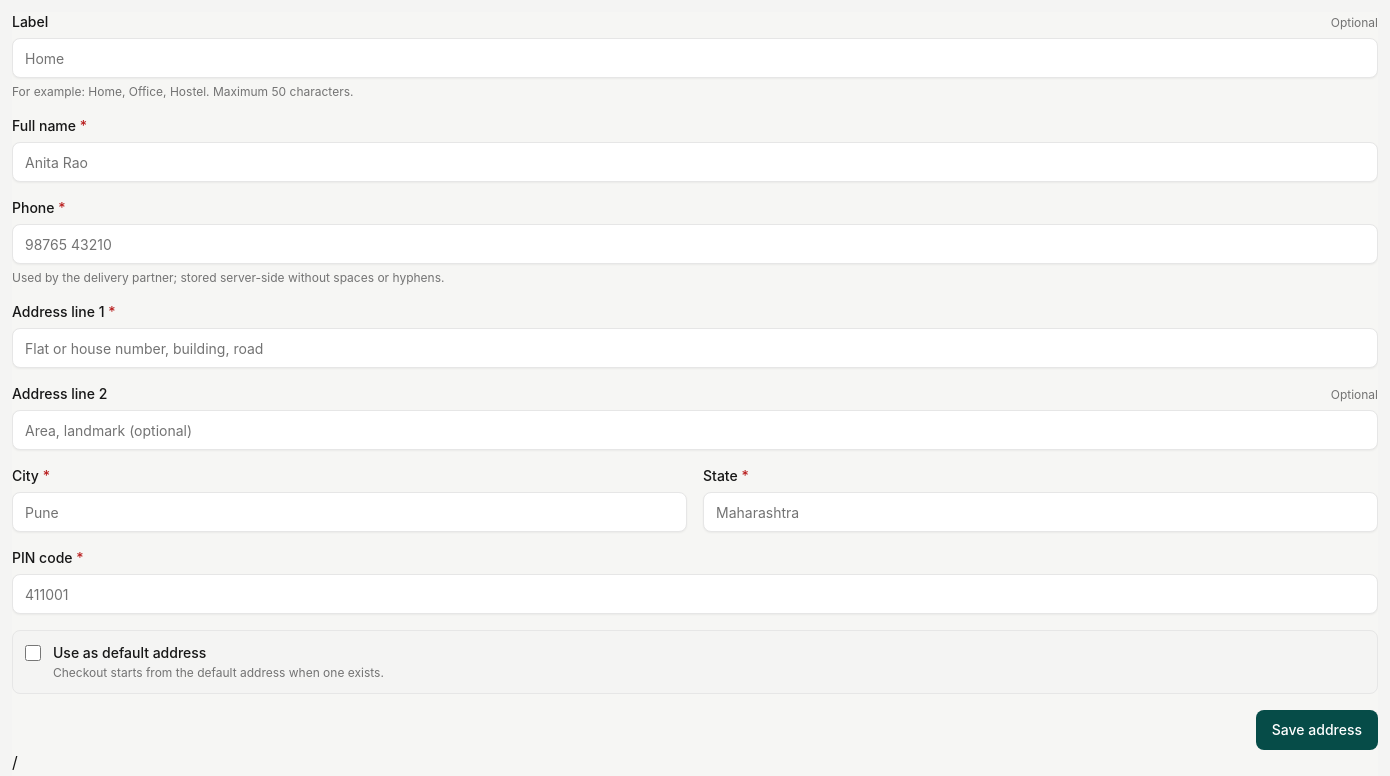
Test: AddressForm › validates phone and PIN formats
The width and height of the screenshot is (1390, 776).
In the field with id "address-phone": point(695, 244) x1=12 y1=224 x2=1378 y2=264, type "98765"
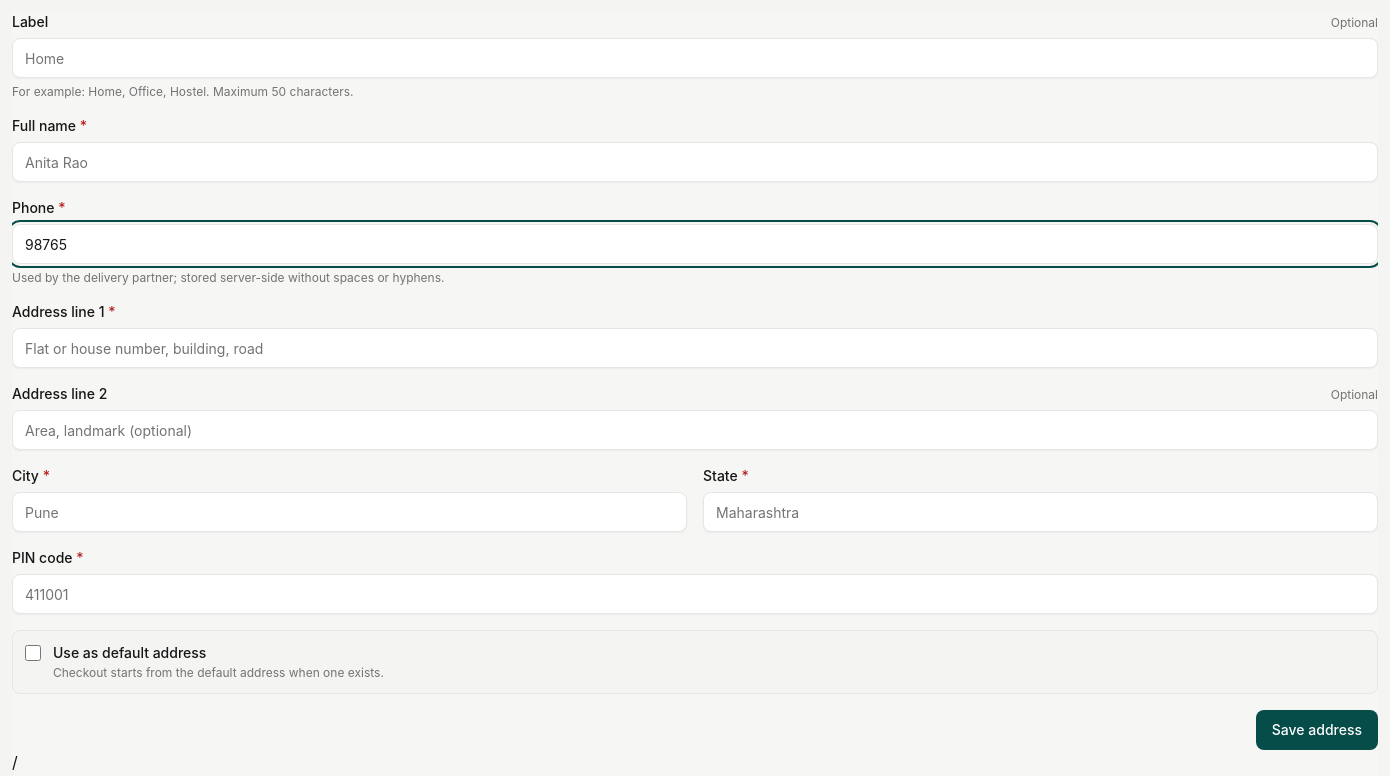
Click the button "Save address": point(1317, 730) x1=1256 y1=710 x2=1378 y2=750
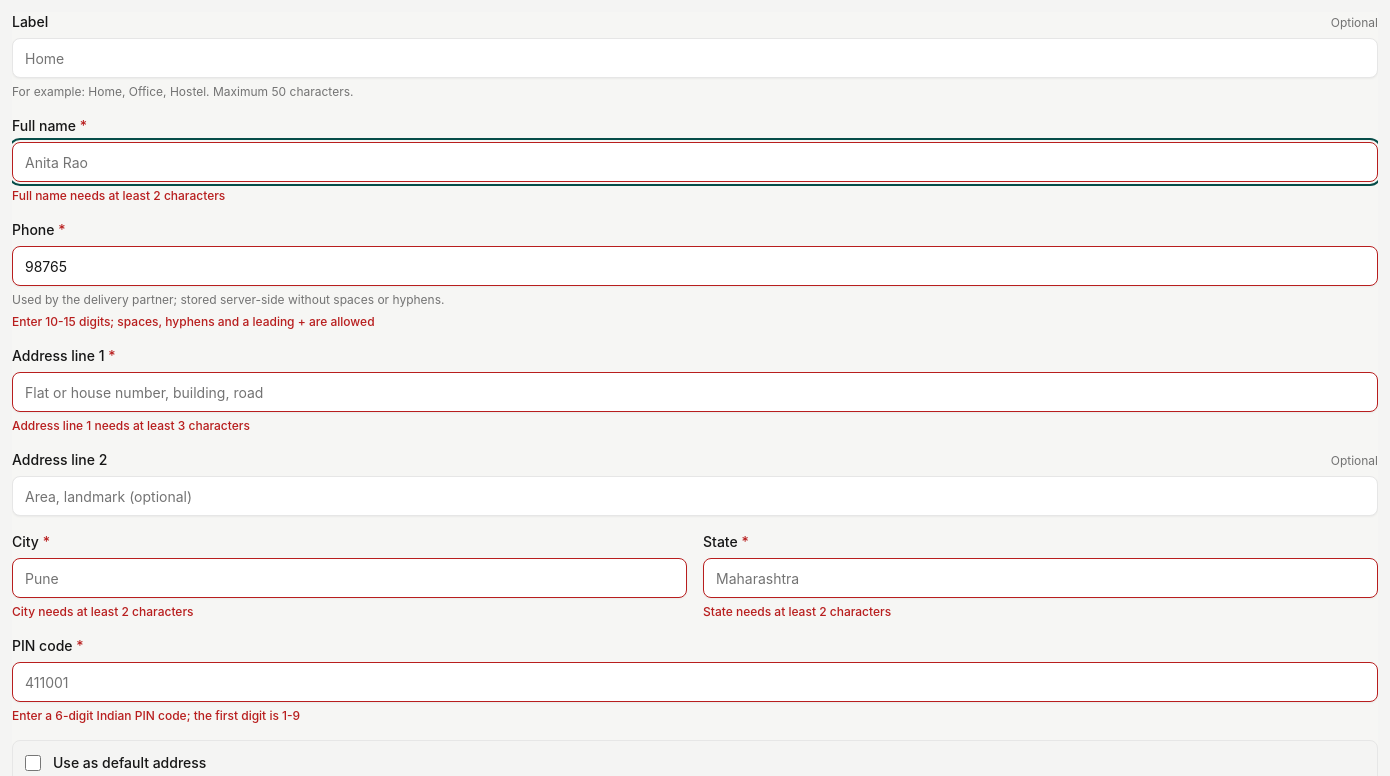
Expected: the text "Enter 10-15 digits; spaces, hyphens and a leading + are allowed" is shown, x1=12 y1=314 x2=375 y2=329
